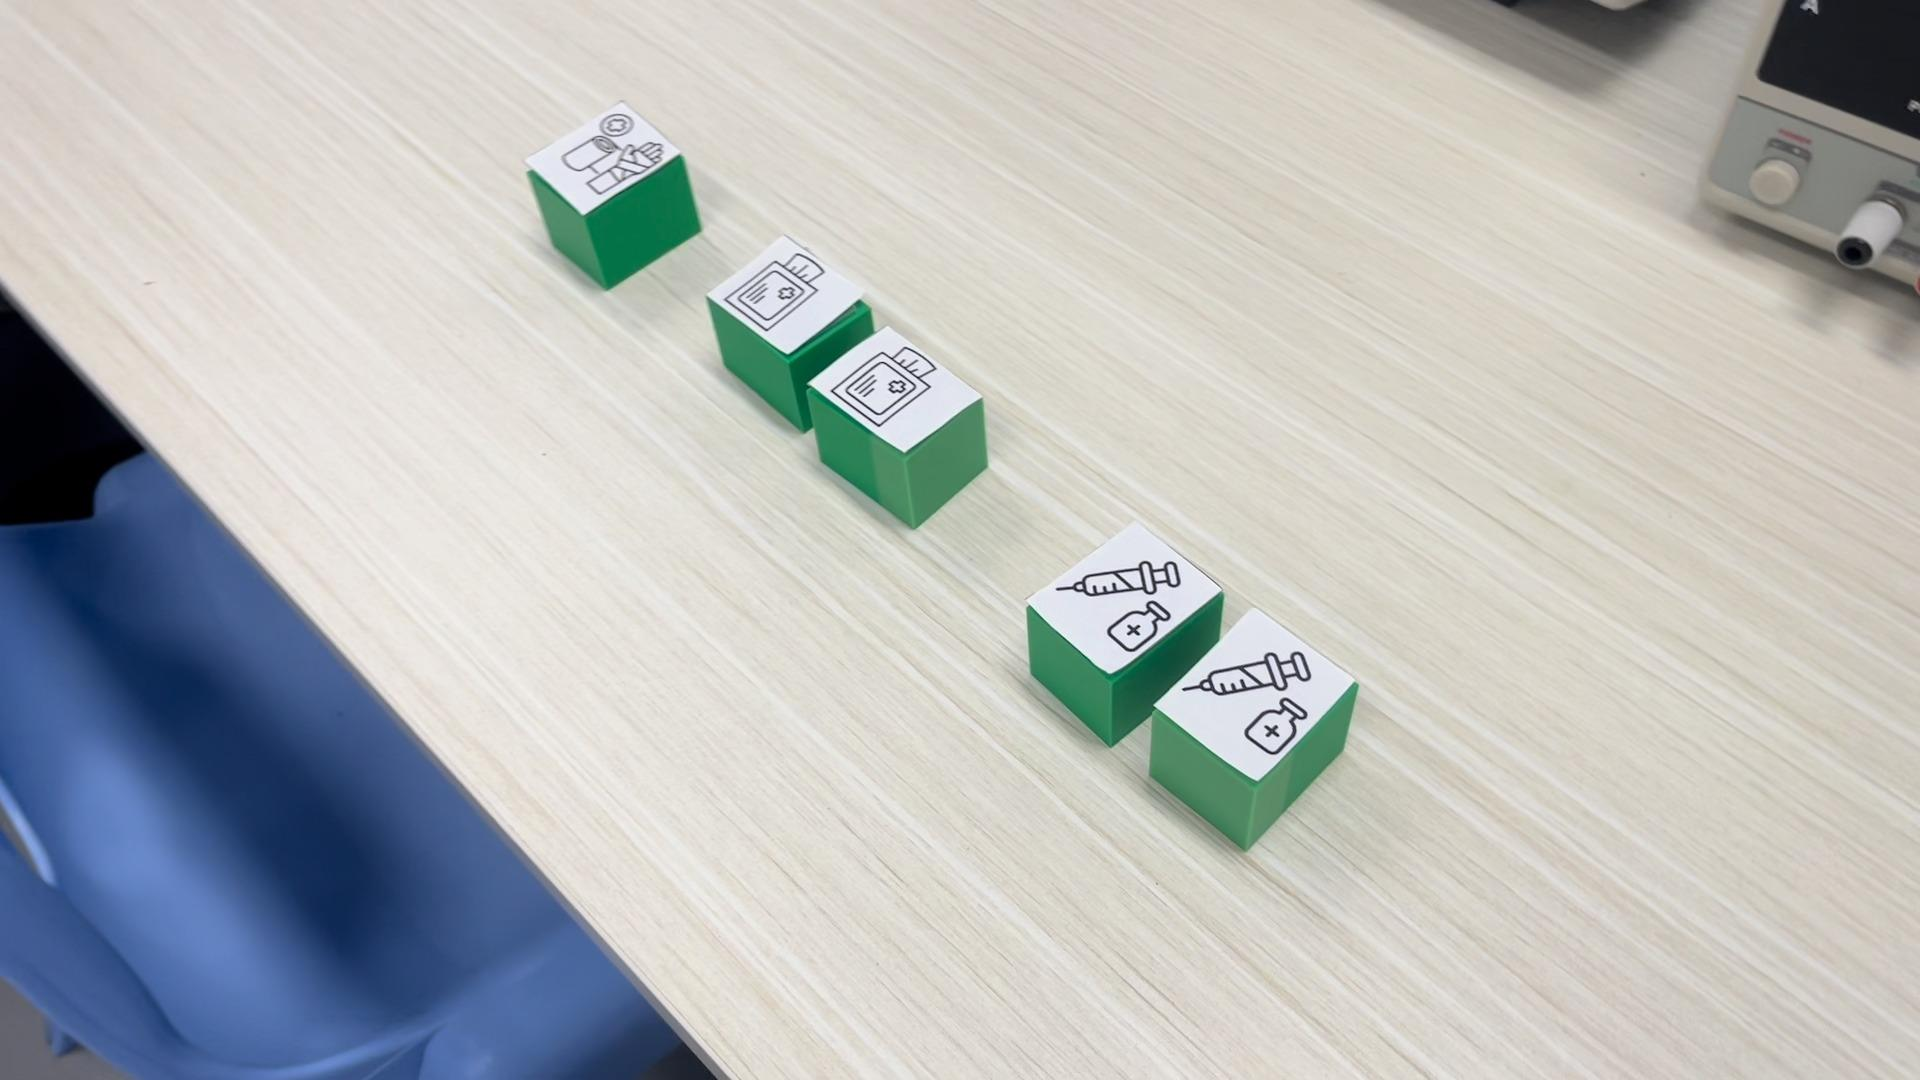Bandages: (521, 100, 702, 290)
Gauze: (807, 324, 989, 533), (702, 229, 866, 365)
antiseptic cream: (1151, 604, 1360, 852), (1019, 521, 1225, 673)
